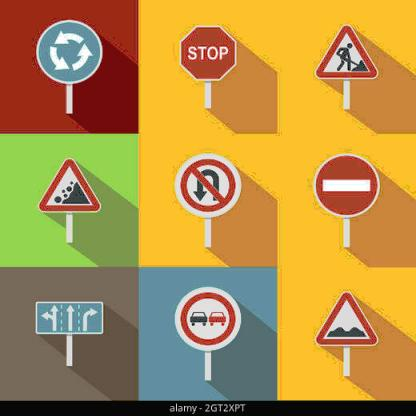No U-turn: (179, 152, 243, 219)
